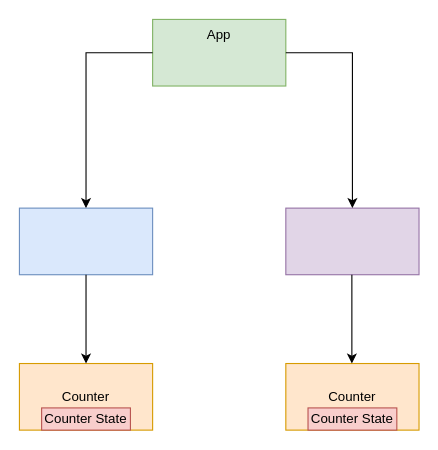
Image size: 438x450. Some labels were removed from this diagram. The centre of each missing label's shape, as x and y in pixels:
"Info Page" goes at [352,241].
"Login Page" goes at [85,241].
